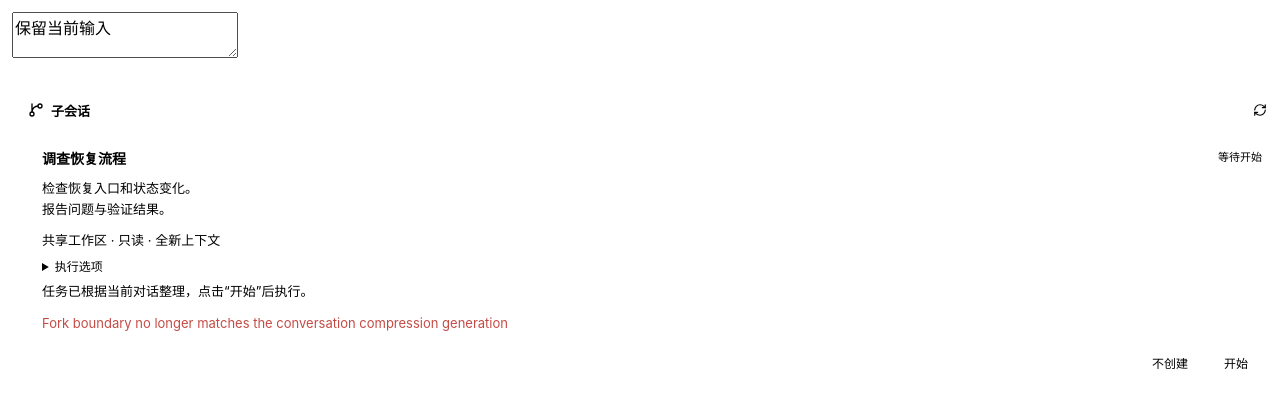
Scenario: shows persisted preparation failure after reload and still offers start or dismiss
This screenshot has width=1283, height=397.
Expected: the message shows "compression generation", 42,315 -> 508,331
Expected: the button "开始" is shown, 1210,344 -> 1262,380
Click the button "不创建". click: [1170, 362]
box: 1138,344 -> 1202,380
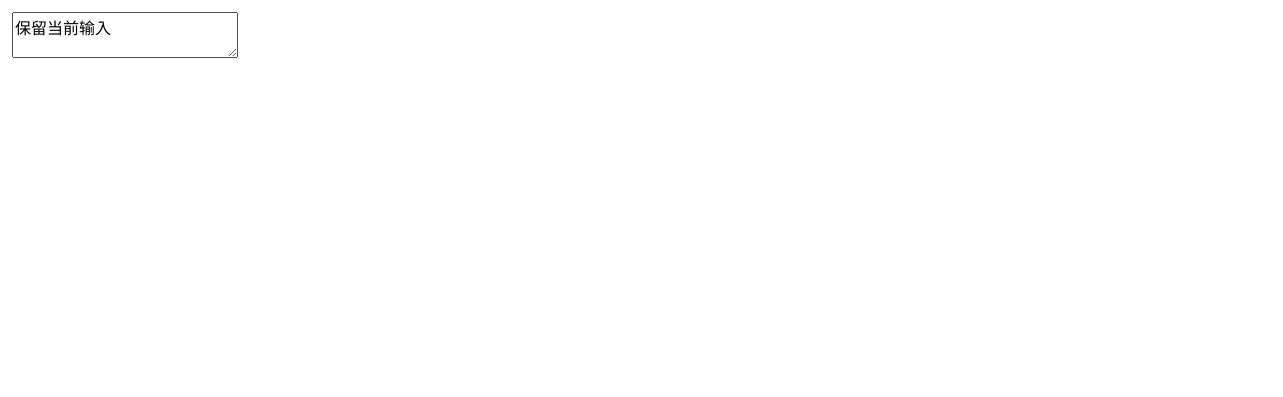
Now the heading "子会话" is gone
